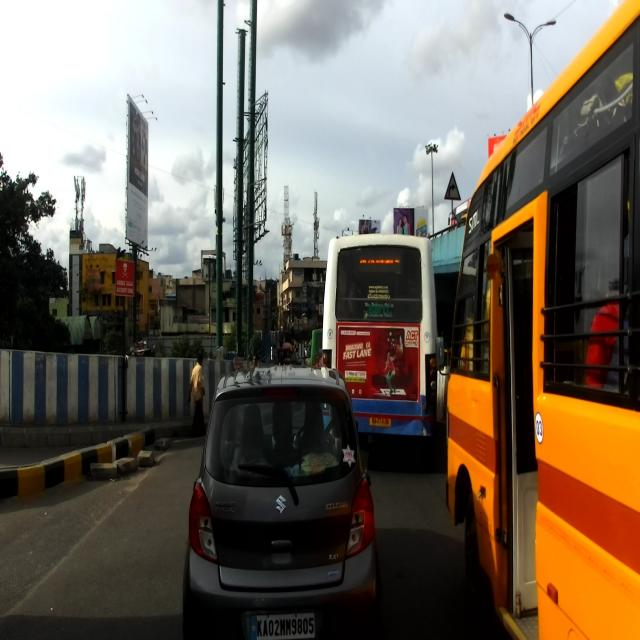Car_Maruti-Suzuki: (183, 368, 383, 640)
bus: (434, 0, 639, 639), (324, 232, 436, 466)
